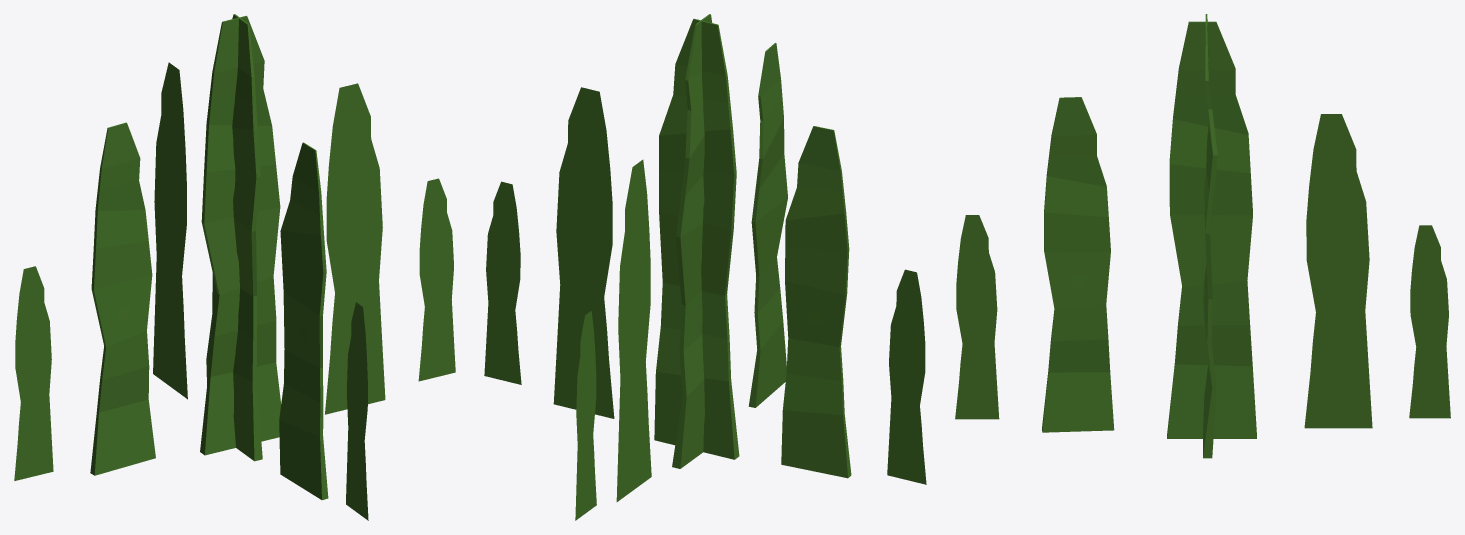
The model's file is Grass_000.glb.
The picture shows the model from 3 angles, left to right: view 1: azimuth 30°, elevation 25°; view 2: azimuth 150°, elevation 25°; view 3: azimuth 270°, elevation 25°; orthographic projection. The views are drawn at different scales.
Visible parts, largest first — view 1: Cube.005; view 2: Cube.005; view 3: Cube.005.
Boxes of the visible parts, x1=… form: Cube.005: x1=14, y1=14, x2=455, y2=520; Cube.005: x1=484, y1=14, x2=926, y2=520; Cube.005: x1=955, y1=14, x2=1450, y2=458.
Bounding box in the file's own units: 0.1678 × 0.1552 × 0.1678.
